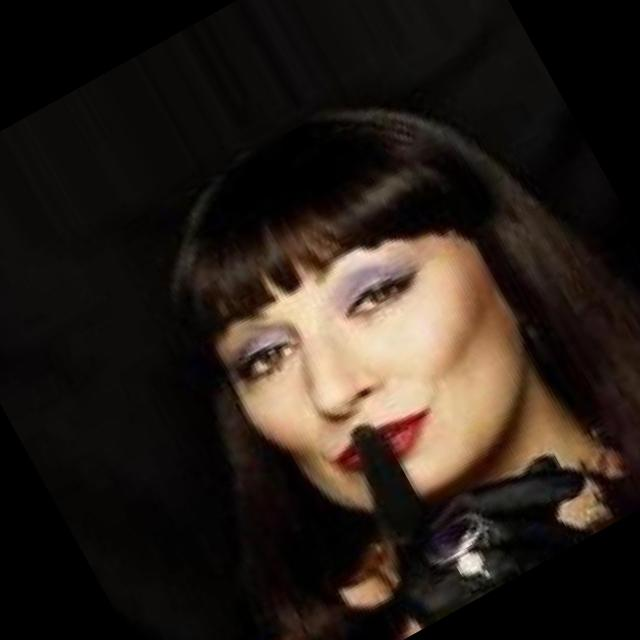bareface: (158, 104, 596, 576)
